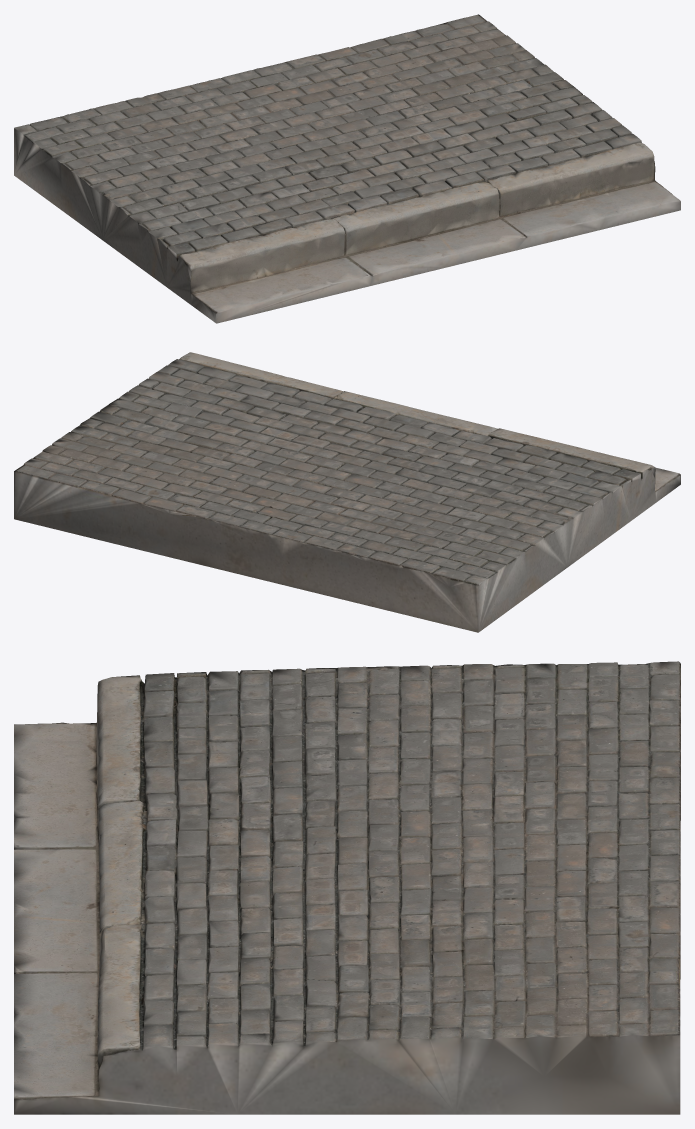
Rendered from PX_Sidewalk_05_LOD0.fbx.
The picture shows the model from 3 angles, top to bottom: view 1: azimuth 30°, elevation 25°; view 2: azimuth 150°, elevation 25°; view 3: azimuth 270°, elevation 25°; orthographic projection. The views are drawn at different scales.
Parts seen in each view (by area): view 1: PX_Sidewalk_05_LOD0; view 2: PX_Sidewalk_05_LOD0; view 3: PX_Sidewalk_05_LOD0.
Boxes of the visible parts, <box> form: PX_Sidewalk_05_LOD0: <box>14,14,680,323</box>; PX_Sidewalk_05_LOD0: <box>14,352,680,632</box>; PX_Sidewalk_05_LOD0: <box>14,661,680,1114</box>.
Size of the model in its own units: 308 by 30.92 by 232.
